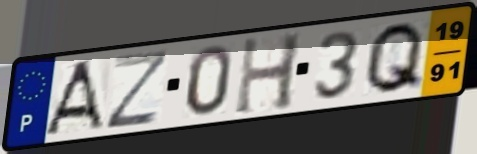0: (184, 42, 236, 119)
3: (311, 28, 363, 102)
A: (41, 57, 107, 137)
H: (232, 31, 305, 118)
Q: (360, 19, 428, 96)
Z: (103, 47, 173, 132)
